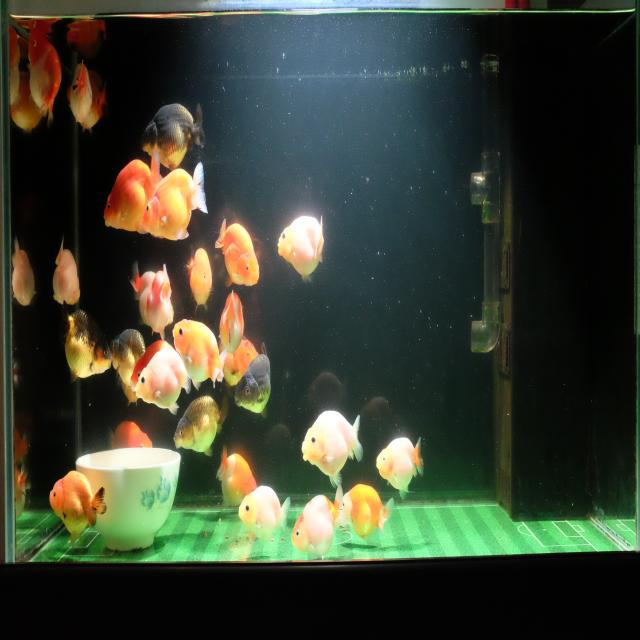Goldfish: (140, 159, 209, 242), (103, 149, 163, 233), (301, 408, 364, 488), (48, 469, 107, 551), (140, 102, 206, 170), (58, 300, 112, 382), (290, 486, 348, 562), (172, 317, 225, 392), (136, 347, 192, 417), (25, 25, 64, 125), (172, 394, 228, 459), (276, 213, 324, 286), (213, 218, 261, 290), (237, 482, 290, 545), (128, 259, 175, 330), (375, 434, 425, 500), (341, 483, 396, 542), (233, 340, 272, 422), (216, 445, 260, 513), (48, 234, 82, 306), (108, 326, 146, 389), (129, 339, 173, 393), (68, 77, 110, 131), (11, 235, 39, 311), (222, 332, 259, 388), (218, 290, 245, 363), (184, 246, 212, 316), (105, 416, 154, 456), (147, 264, 171, 344), (69, 58, 94, 126)
